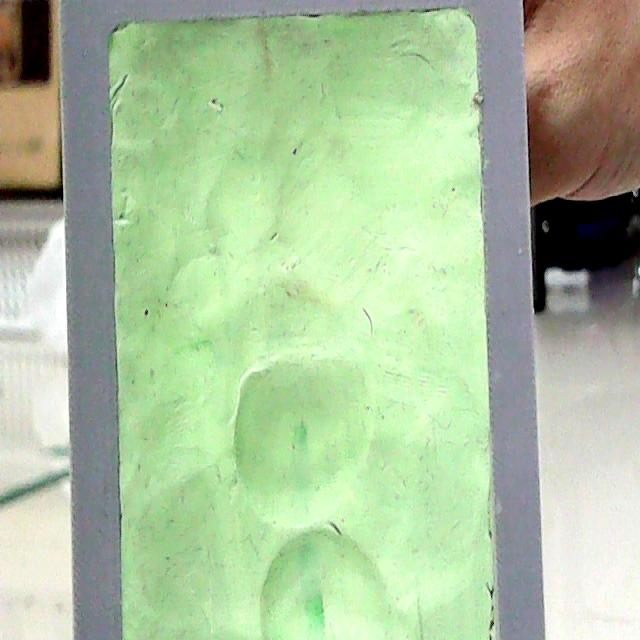block: (49, 0, 554, 640)
